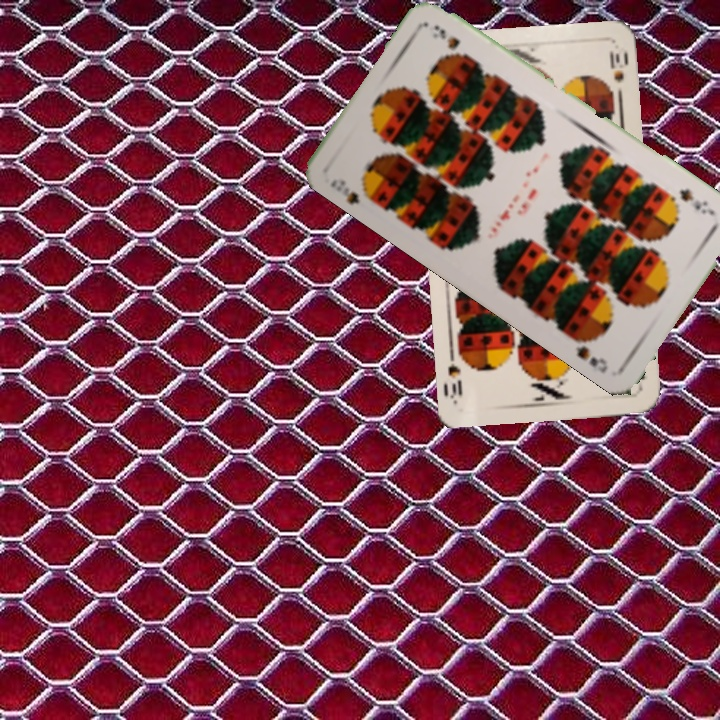S9: (326, 174, 378, 207), (675, 184, 718, 218)
